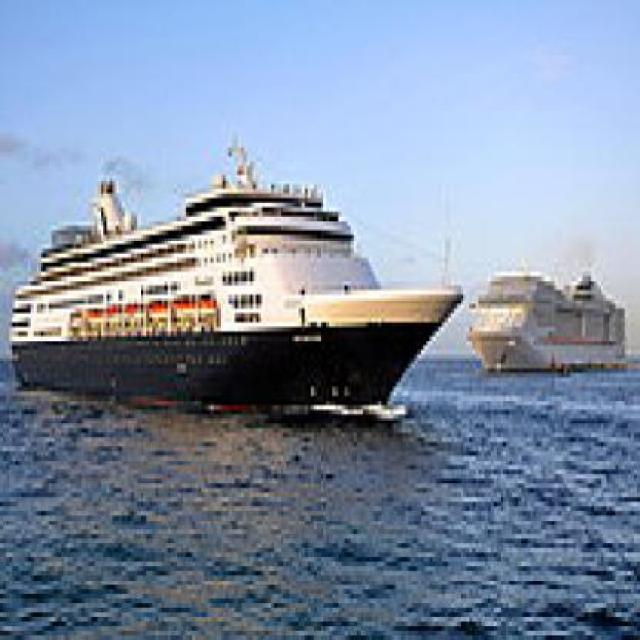cruise: (7, 120, 470, 439), (461, 240, 638, 393)
